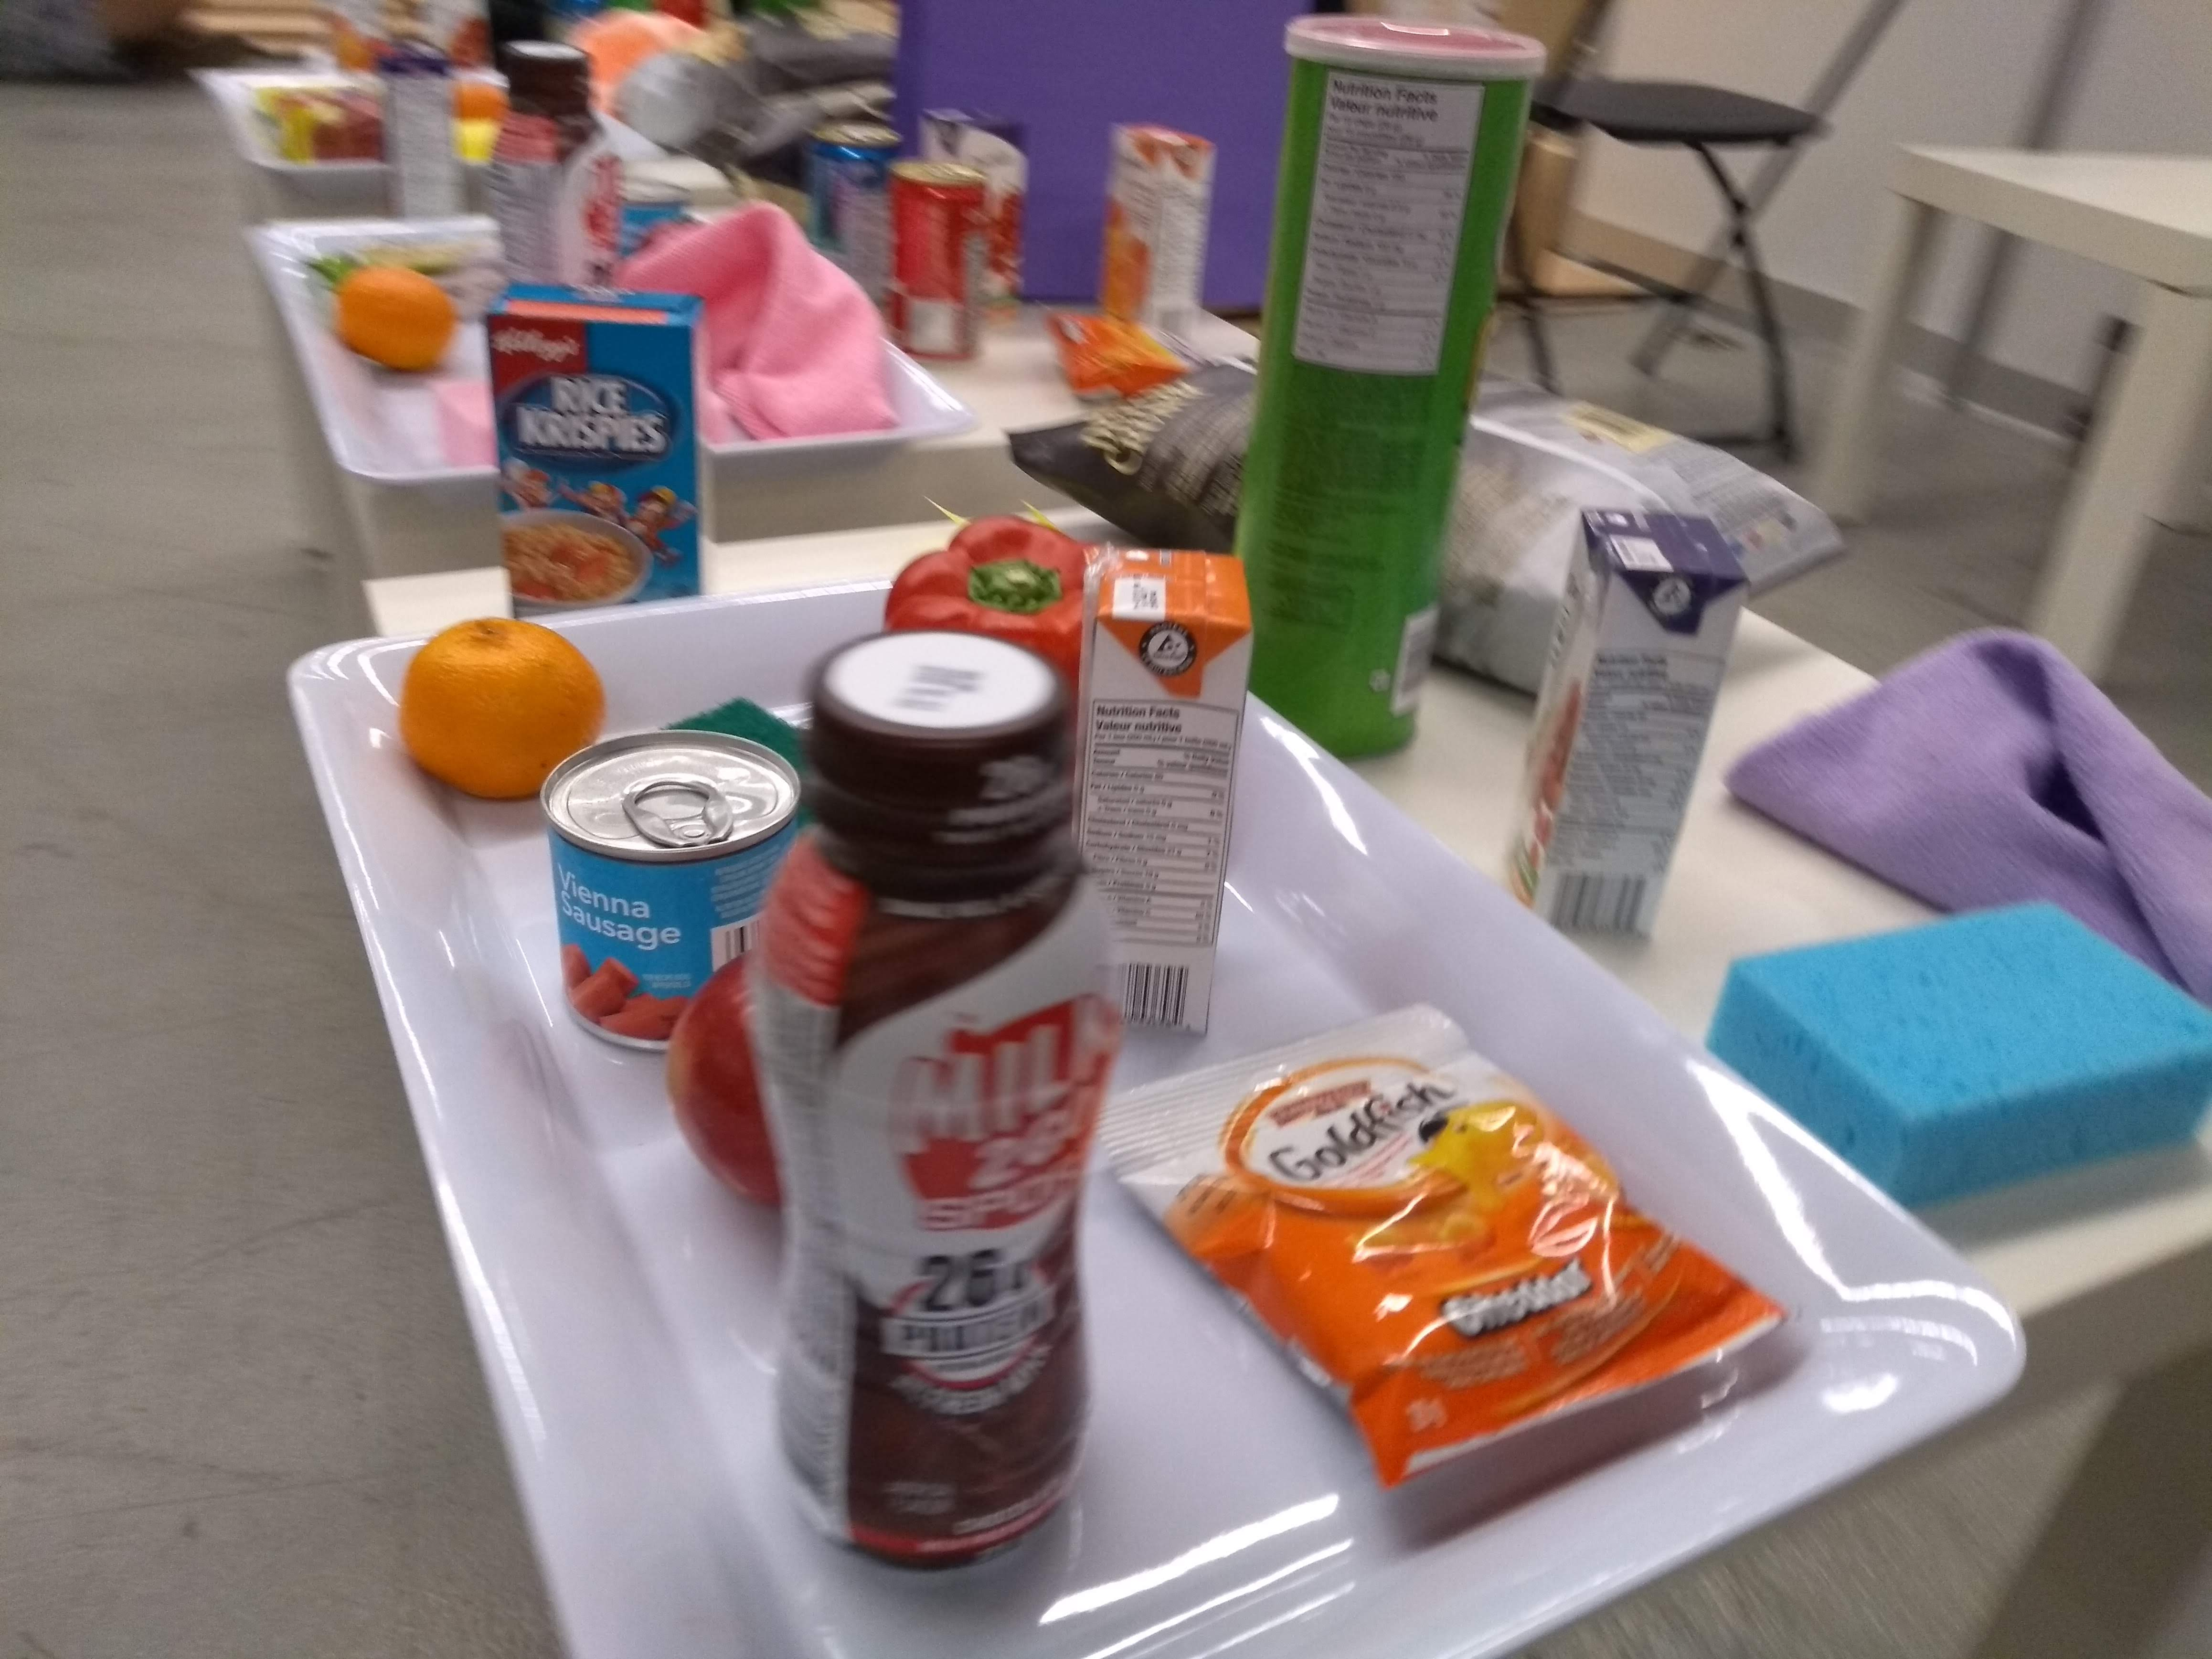cereal: (474, 286, 726, 620)
chocolate_drink: (740, 617, 1144, 1584)
crackers: (1066, 988, 1794, 1488)
grape_juice: (1493, 498, 1763, 946)
orange: (392, 608, 615, 814)
pringles: (1226, 14, 1564, 763)
sausages: (535, 718, 808, 1058)
sponge_opl: (1688, 889, 2212, 1213)
